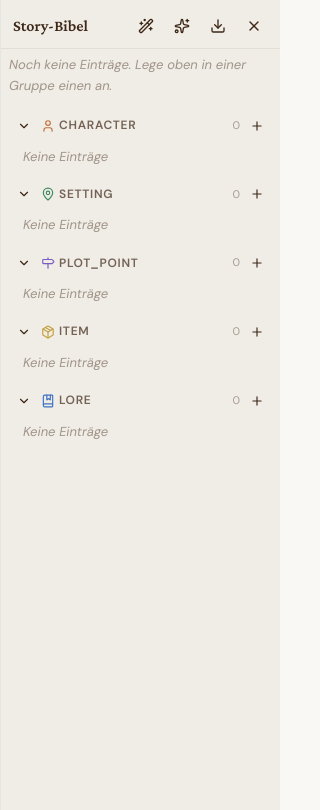
Test: StoryBibleSidebar › reveals the add form when the group is collapsed (add expands it)
expect the element with test id "story-bible-group-character" is shown: met, box [9,111,272,173]
Click the button with test id "story-bible-group-toggle-character" at {"x": 24, "y": 126}, box [11,113,37,139]
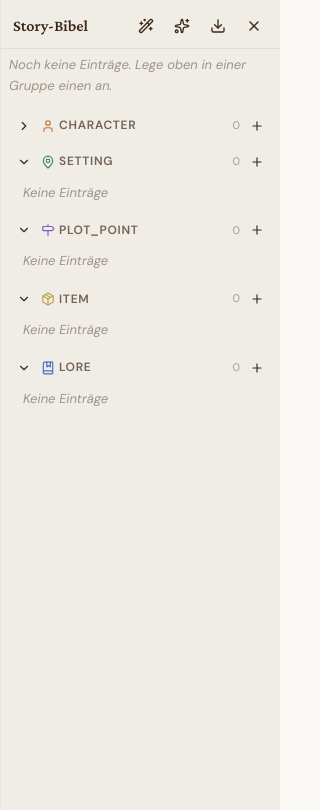
Click the button with test id "story-bible-add-character" at {"x": 257, "y": 126}, box [244,113,270,139]
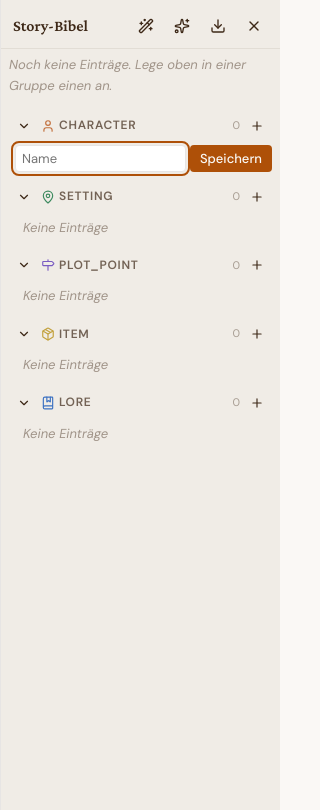
expect the field with test id "story-bible-add-input-character" is shown: met, box [15,145,186,172]
